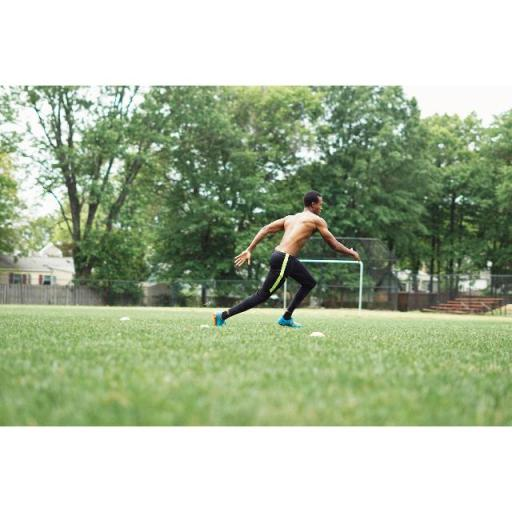Running: (197, 182, 370, 336)
